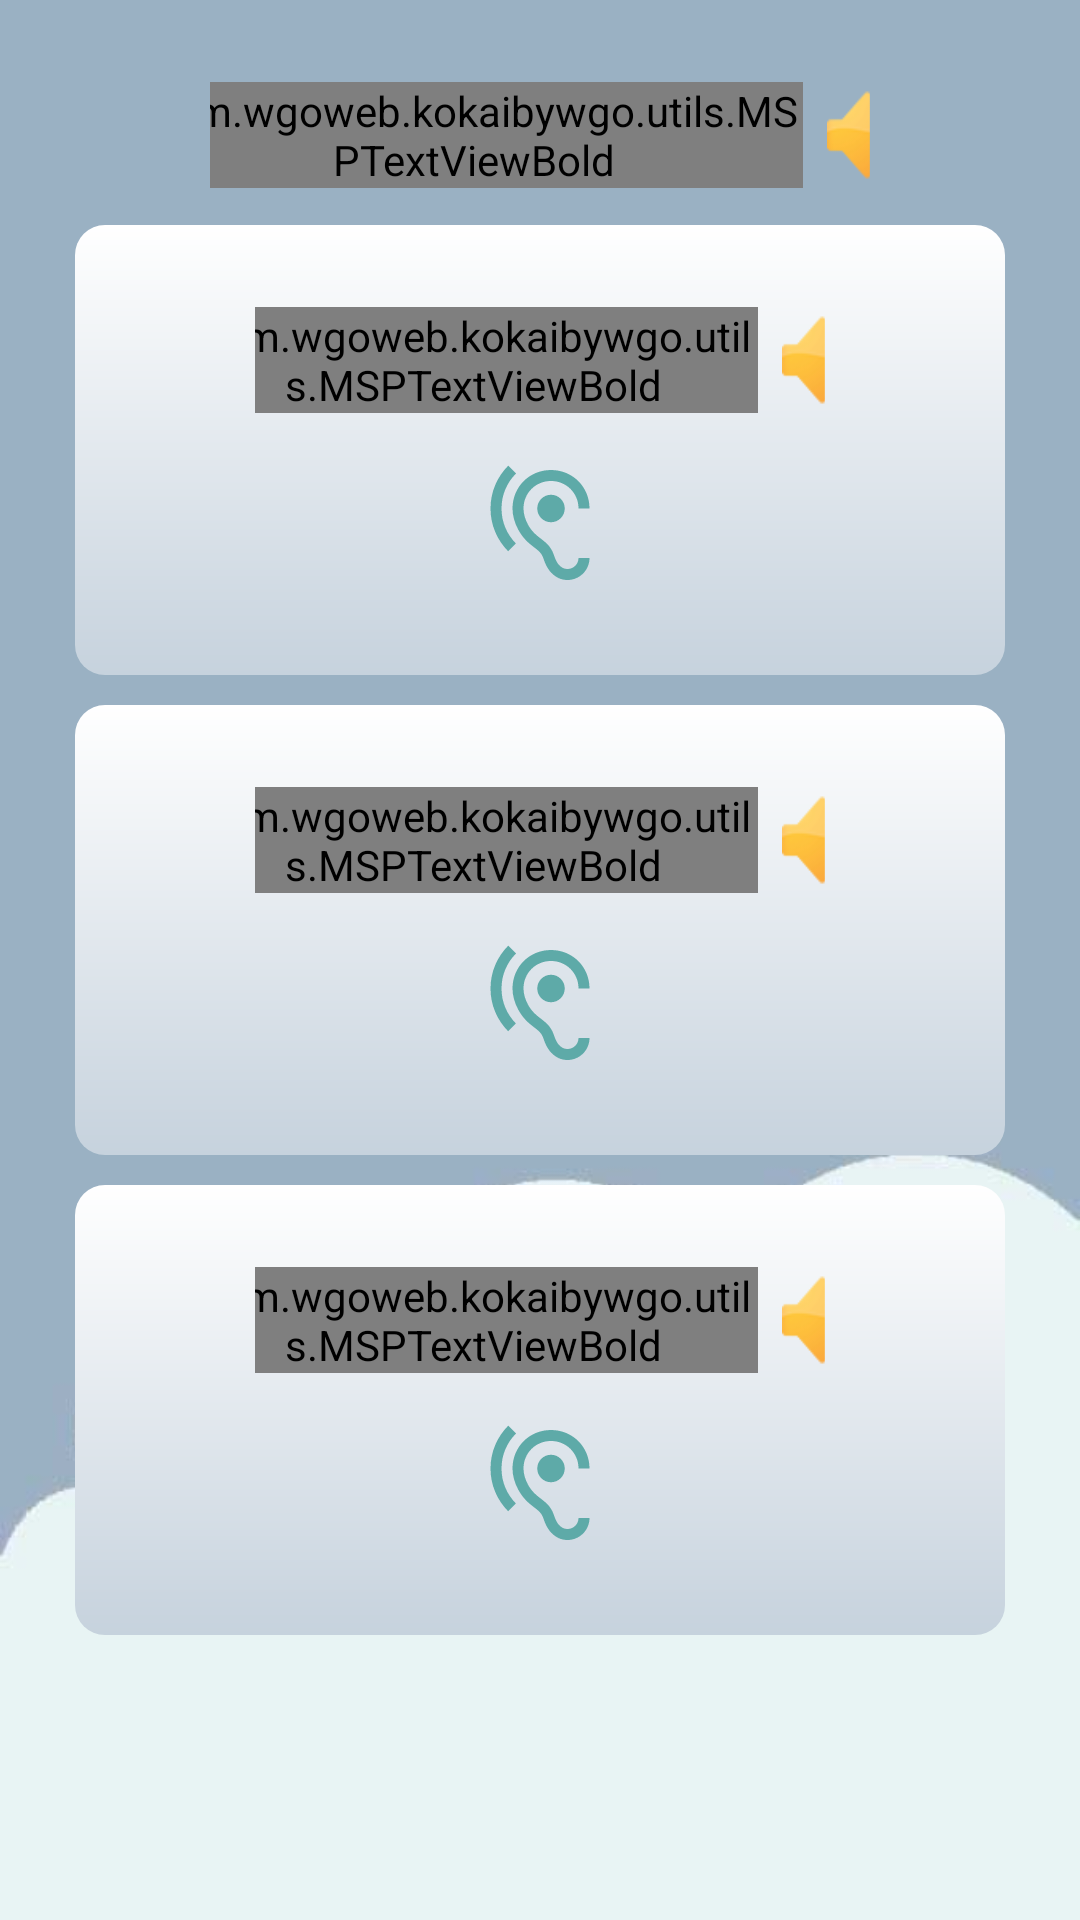

Icon bounding boxes for this 1080 x 1920 phone screenshot, format (x1, y1, x2, y2):
sound on: (827, 91, 870, 179), (782, 316, 825, 404), (782, 796, 825, 884), (782, 1276, 825, 1364)
